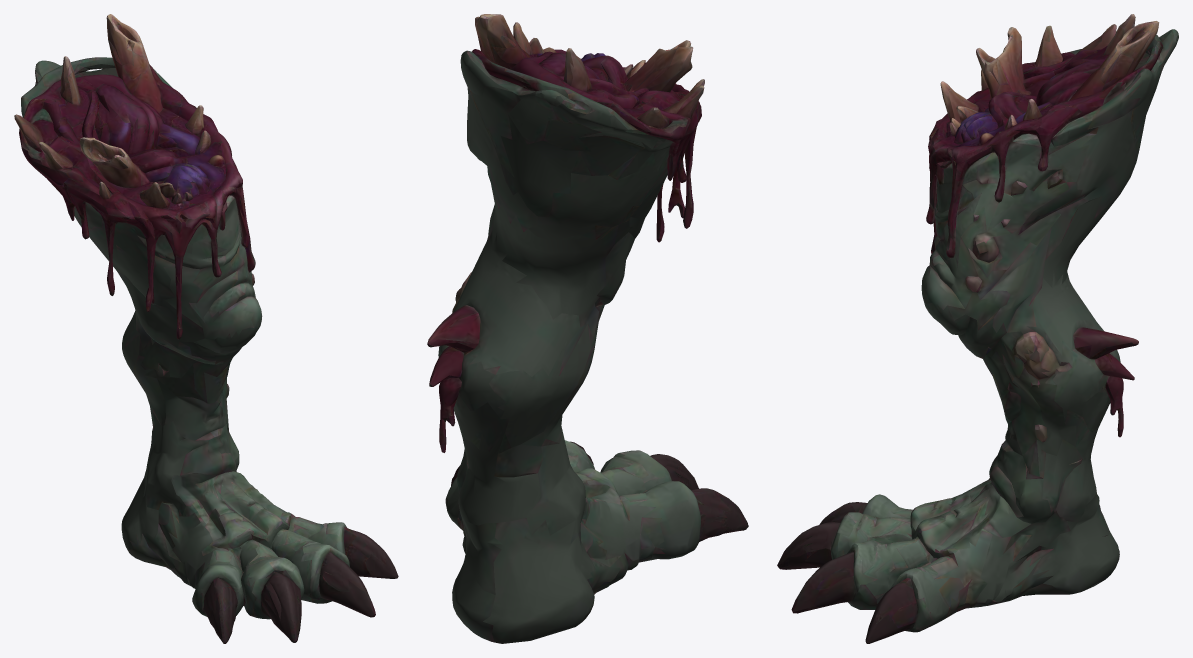
File: leg.glb
3 views of the same model, side by side, from view 1: azimuth 30°, elevation 25°; view 2: azimuth 150°, elevation 25°; view 3: azimuth 270°, elevation 25° (orthographic). The views are drawn at different scales.
Visible parts, largest first — view 1: mesh_node; view 2: mesh_node; view 3: mesh_node.
Part boxes in pixels (x1,y1,x2,y2): mesh_node: (14,14,398,643); mesh_node: (427,14,748,643); mesh_node: (777,14,1178,643).
Size of the model in its own units: 1.09 by 1.9 by 1.28.
1 material, 1 textured.
